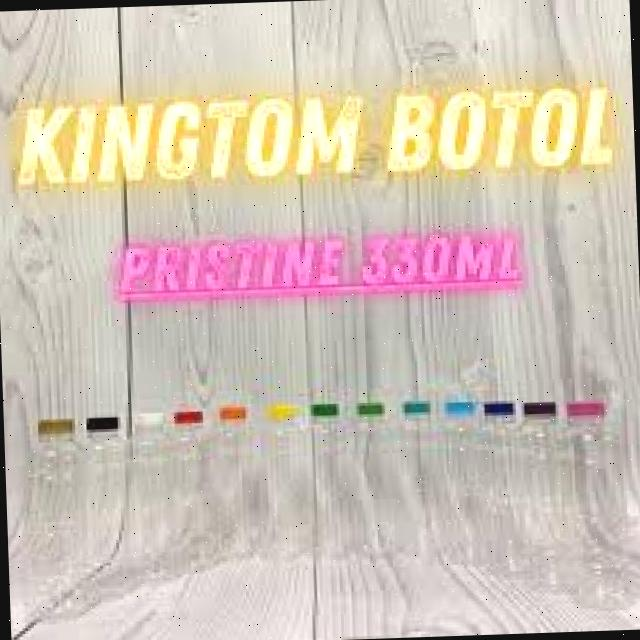bottle: (555, 391, 634, 607), (428, 386, 507, 596), (65, 408, 144, 616), (14, 412, 90, 628), (110, 400, 187, 613), (328, 392, 416, 576), (152, 392, 225, 594), (512, 394, 584, 597), (379, 389, 453, 579), (252, 390, 326, 578), (470, 398, 538, 584), (296, 394, 364, 578), (204, 400, 272, 581)
cap: (31, 410, 76, 437), (521, 395, 555, 420), (564, 398, 605, 418), (261, 399, 295, 422), (85, 414, 122, 434), (396, 397, 428, 418), (486, 394, 515, 416), (438, 398, 475, 414), (135, 411, 162, 432), (216, 401, 243, 422), (311, 400, 343, 416), (354, 400, 384, 417), (173, 409, 204, 425)
